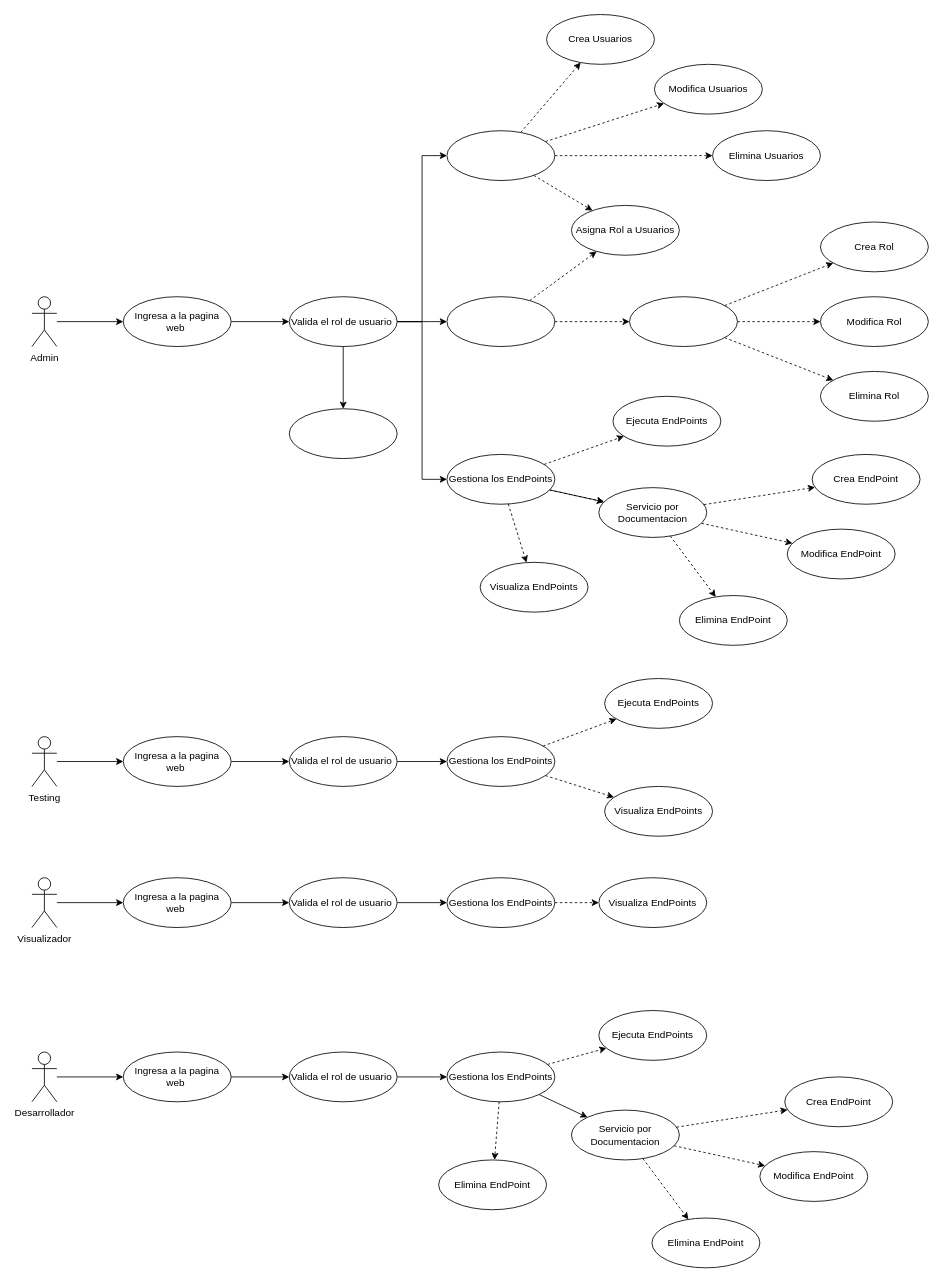
This 943x1282 diagram has some shape labels left out. The shapes that lost their labels are listed below. From the top down, each one's box as (x1, y1, x2, y2) in pixels, then its label:
(446, 130, 555, 181): Gestiona los Usuarios
(446, 296, 555, 347): Gestiona los Roles
(629, 296, 737, 347): Guarda en la Auditoria del Rol
(288, 408, 397, 459): Ver la auditoria del Rol
